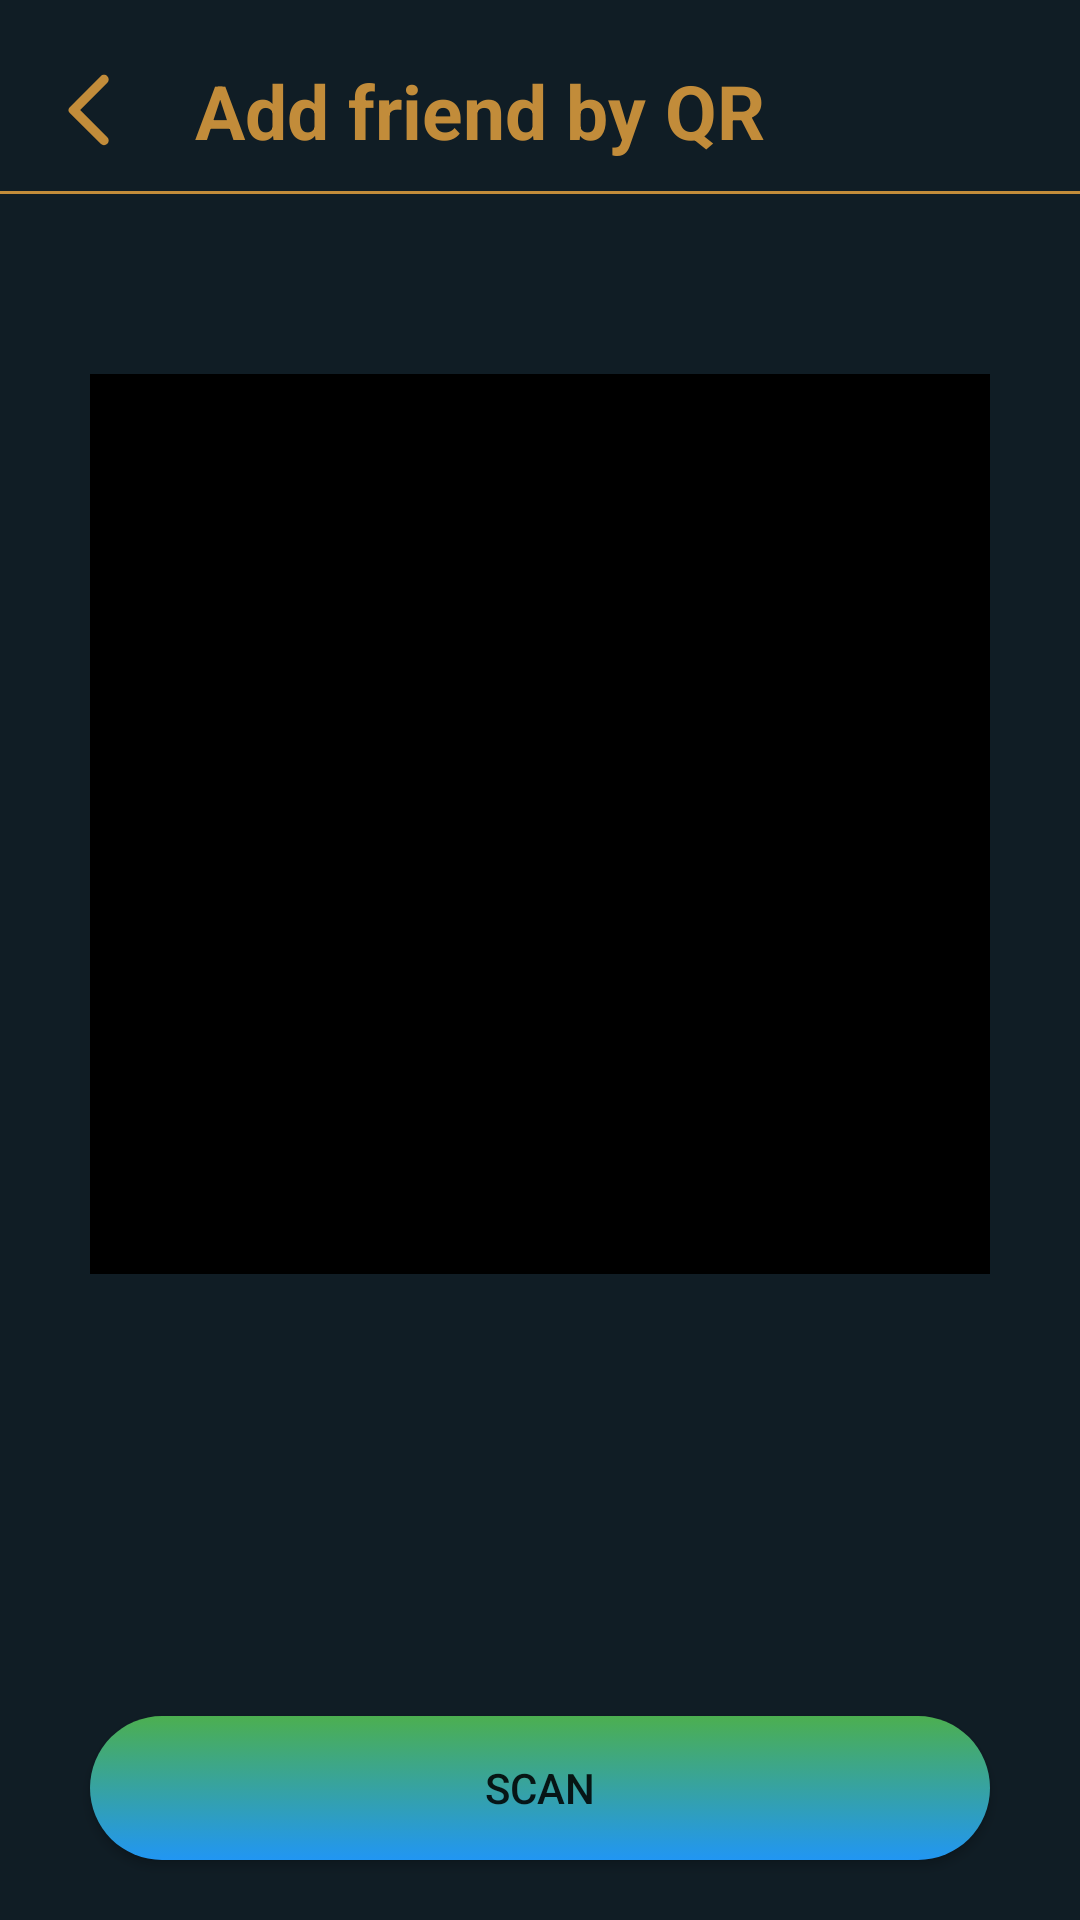

Named icons in this screenshot (1080*1920) and their centers, (x=x, y=y):
back arrow: (x=88, y=109)
